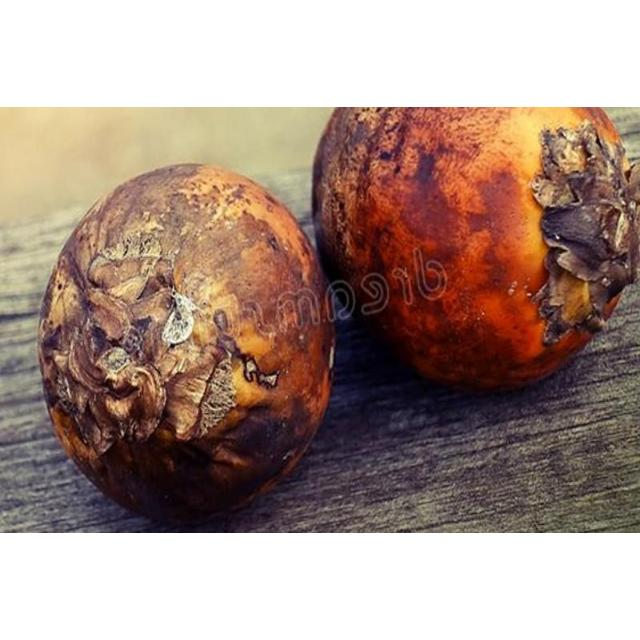damaged: (38, 165, 334, 521), (313, 107, 639, 388)
